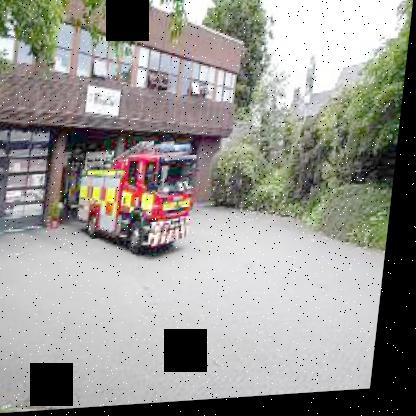emergency: (71, 135, 210, 264)
